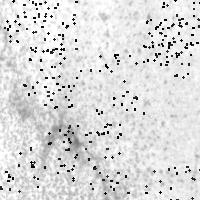pitted_surface: (1, 1, 196, 195), (16, 1, 75, 59), (23, 47, 80, 107), (90, 54, 147, 113), (63, 123, 120, 179), (135, 19, 190, 76), (30, 129, 73, 186), (166, 5, 200, 64), (142, 166, 200, 200), (159, 0, 200, 48), (71, 167, 128, 200), (0, 152, 31, 200), (0, 0, 35, 40)
